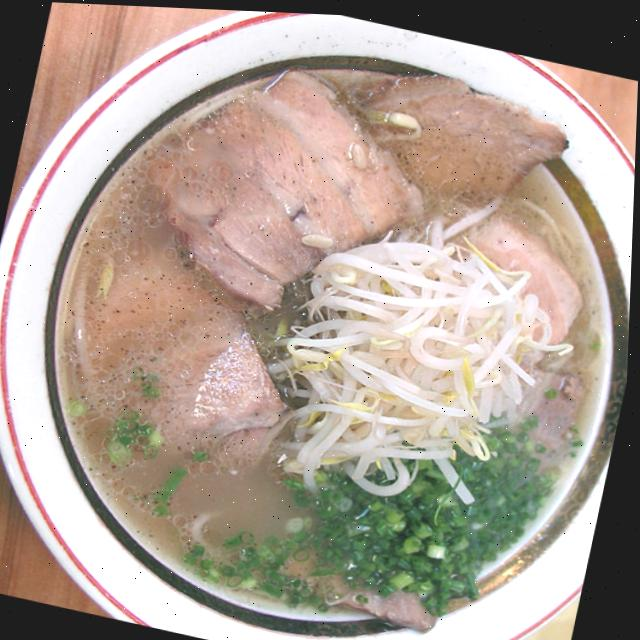面条主食: (20, 1, 640, 640)
